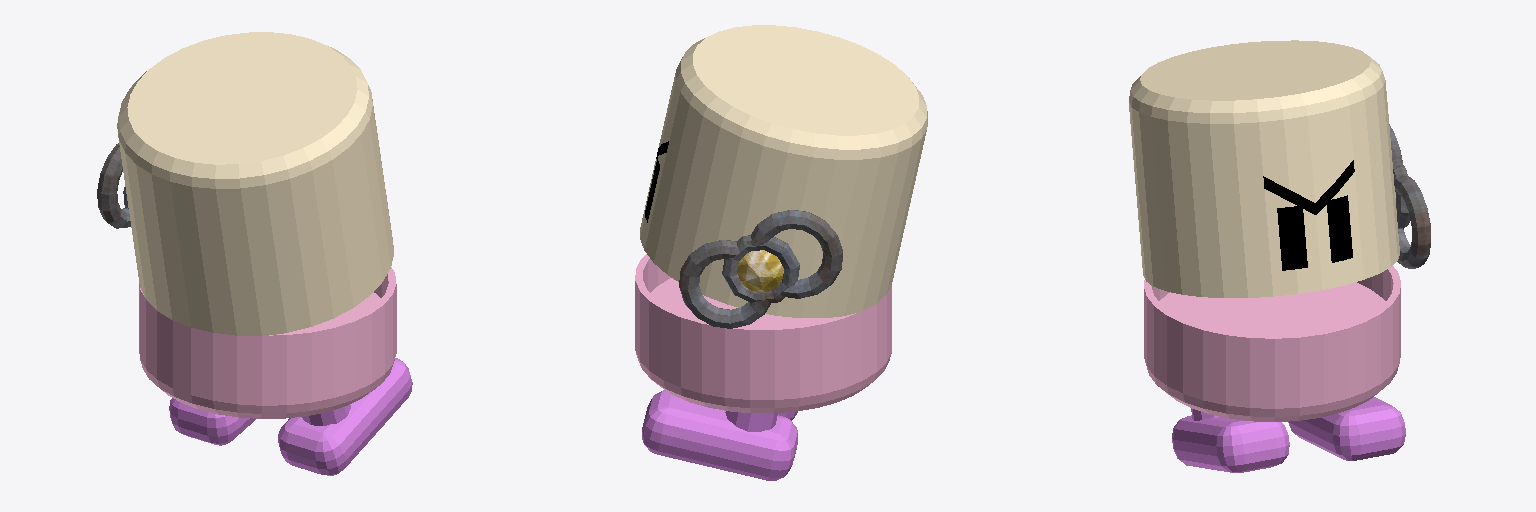
3 renders of one model, left to right at view 1: azimuth 30°, elevation 25°; view 2: azimuth 150°, elevation 25°; view 3: azimuth 270°, elevation 25°, orthographic.
Parts seen in each view (by area): view 1: Head, Jaw, RightLeg, LeftLeg, WindupKey; view 2: Head, Jaw, WindupKey, LeftLeg; view 3: Head, Jaw, RightLeg, LeftLeg, WindupKey.
Part boxes in pixels (x1,y1,x2,y2): Head: (117, 32, 393, 335); Jaw: (139, 267, 396, 418); RightLeg: (278, 358, 412, 475); LeftLeg: (169, 398, 255, 445); WindupKey: (97, 143, 130, 228); Head: (640, 25, 927, 317); Jaw: (635, 254, 891, 412); WindupKey: (679, 210, 842, 328); LeftLeg: (642, 390, 797, 480); Head: (1129, 40, 1399, 297); Jaw: (1144, 266, 1400, 421); RightLeg: (1172, 408, 1289, 472); LeftLeg: (1288, 397, 1405, 460); WindupKey: (1389, 124, 1430, 268).
Size of the model in its own units: 118 by 166 by 117.
6 materials, 2 textured.